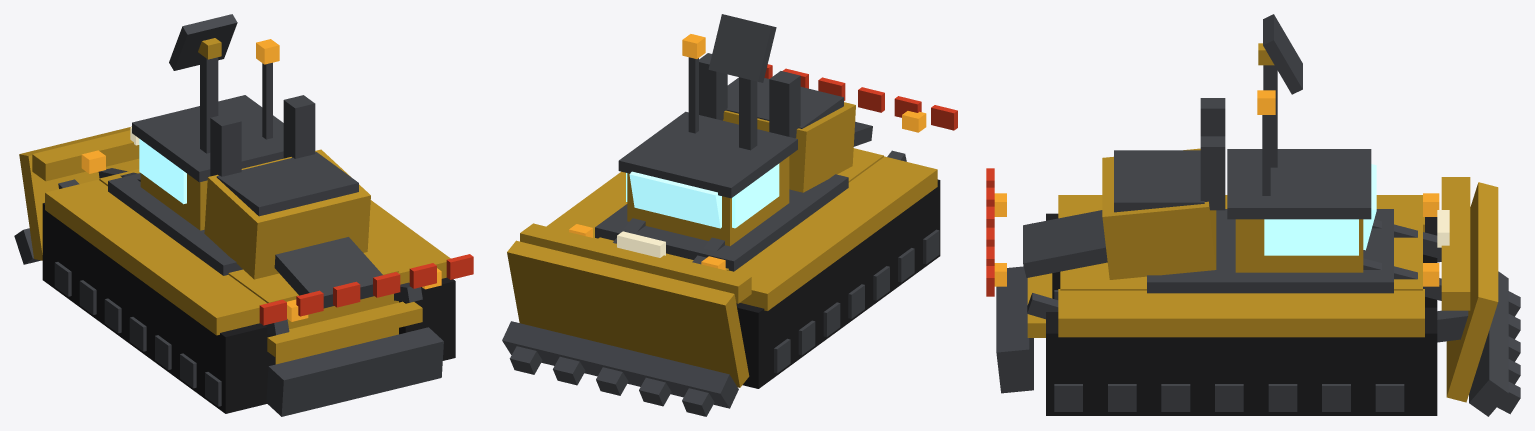
File: dozer.glb
3 renders of one model, left to right at view 1: azimuth 30°, elevation 25°; view 2: azimuth 150°, elevation 25°; view 3: azimuth 270°, elevation 25°, orthographic. The views are drawn at different scales.
Parts seen in each view (by area): view 1: TrackLeft, TrackGuardLeft, Screed, Hopper, CabRoof, HopperMouth, Conveyor, Hull, ScreedFrame, DeckPlate, TrackGuardRight, BladeSpine (+25 smaller); view 2: Blade, TrackLeft, TrackGuardLeft, CabRoof, BladeLip, DeckPlate, BladeSpine, Hopper, Dish, CabBase, CabGlass, TrackGuardRight (+26 smaller); view 3: TrackRight, TrackGuardRight, CabRoof, Hopper, DeckPlate, Blade, HopperMouth, Conveyor, Screed, BladeSpine, CabBase, CabGlassR (+22 smaller).
Boxes of the visible parts, bbox=[...] form: TrackLeft: bbox=[42, 203, 275, 413]; TrackGuardLeft: bbox=[45, 179, 266, 335]; Screed: bbox=[266, 327, 443, 416]; Hopper: bbox=[204, 149, 370, 279]; CabRoof: bbox=[132, 95, 283, 182]; HopperMouth: bbox=[216, 152, 358, 216]; Conveyor: bbox=[274, 237, 382, 308]; Hull: bbox=[99, 169, 398, 364]; ScreedFrame: bbox=[267, 301, 422, 357]; DeckPlate: bbox=[108, 173, 242, 275]; TrackGuardRight: bbox=[368, 200, 450, 284]; BladeSpine: bbox=[32, 130, 139, 181]; Blade: bbox=[507, 240, 749, 387]; TrackLeft: bbox=[736, 179, 940, 388]; TrackGuardLeft: bbox=[729, 156, 937, 310]; CabRoof: bbox=[618, 111, 797, 198]; BladeLip: bbox=[502, 321, 738, 408]; DeckPlate: bbox=[595, 174, 848, 271]; BladeSpine: bbox=[520, 223, 751, 303]; Hopper: bbox=[723, 102, 855, 192]; Dish: bbox=[708, 14, 776, 82]; CabBase: bbox=[627, 156, 789, 246]; CabGlass: bbox=[629, 171, 721, 228]; TrackGuardRight: bbox=[546, 171, 627, 238]; TrackRight: bbox=[1046, 307, 1437, 415]; TrackGuardRight: bbox=[1058, 289, 1424, 337]; CabRoof: bbox=[1227, 149, 1371, 219]; Hopper: bbox=[1102, 148, 1216, 279]; DeckPlate: bbox=[1147, 209, 1393, 293]; Blade: bbox=[1446, 182, 1498, 402]; HopperMouth: bbox=[1114, 150, 1204, 212]; Conveyor: bbox=[1023, 210, 1107, 277]; Screed: bbox=[996, 266, 1033, 393]; BladeSpine: bbox=[1441, 177, 1470, 310]; CabBase: bbox=[1235, 219, 1363, 272]; CabGlassR: bbox=[1264, 219, 1358, 255].
Bounding box in the file's own units: 71 × 86.49 × 130.
